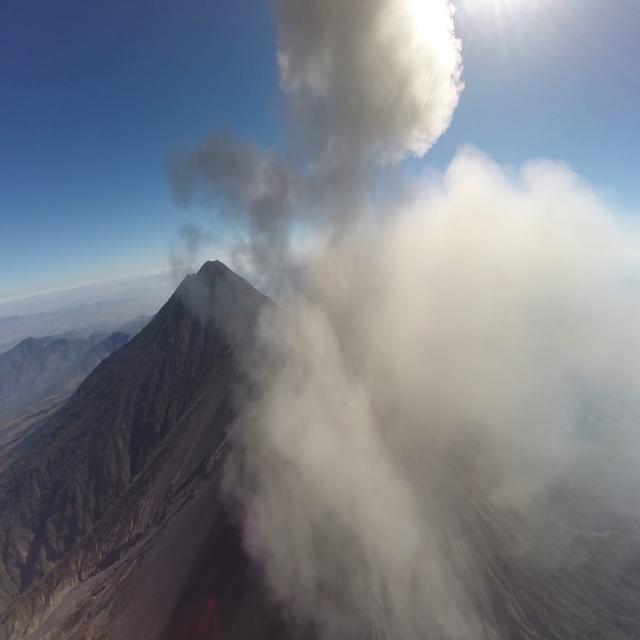Plume: (223, 156, 640, 640), (265, 0, 473, 198)
